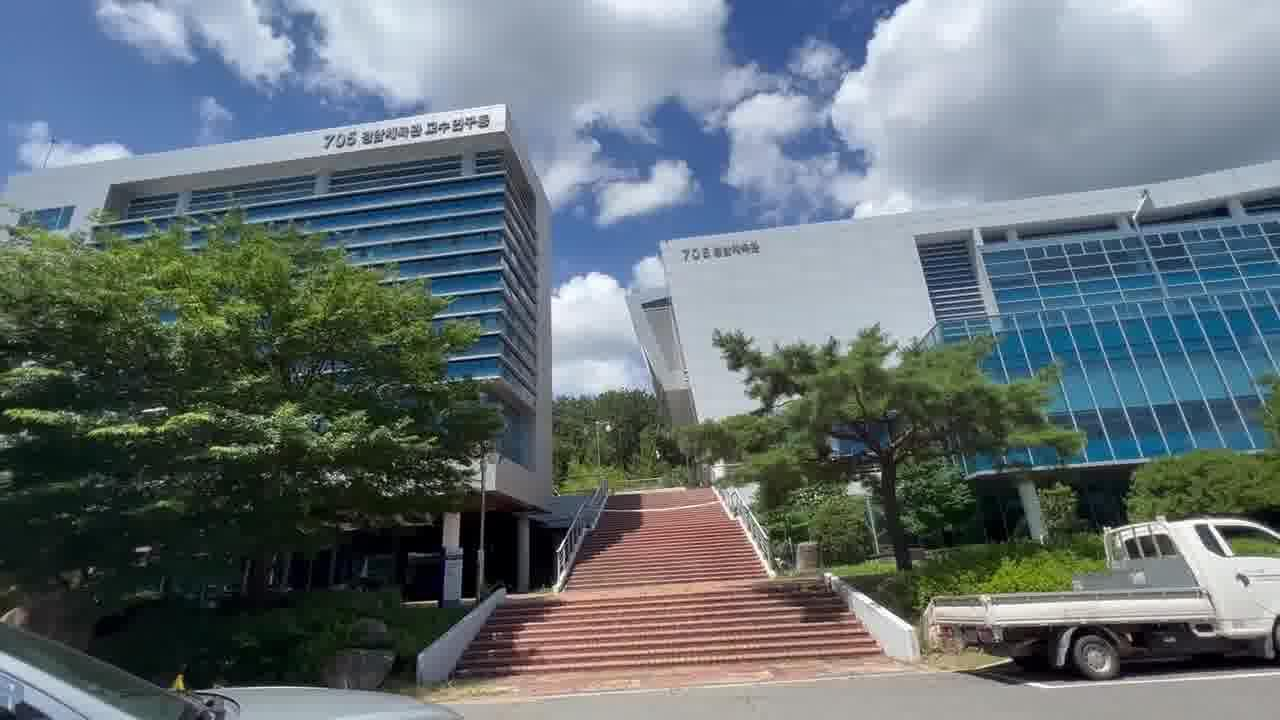building: (613, 169, 1280, 363)
